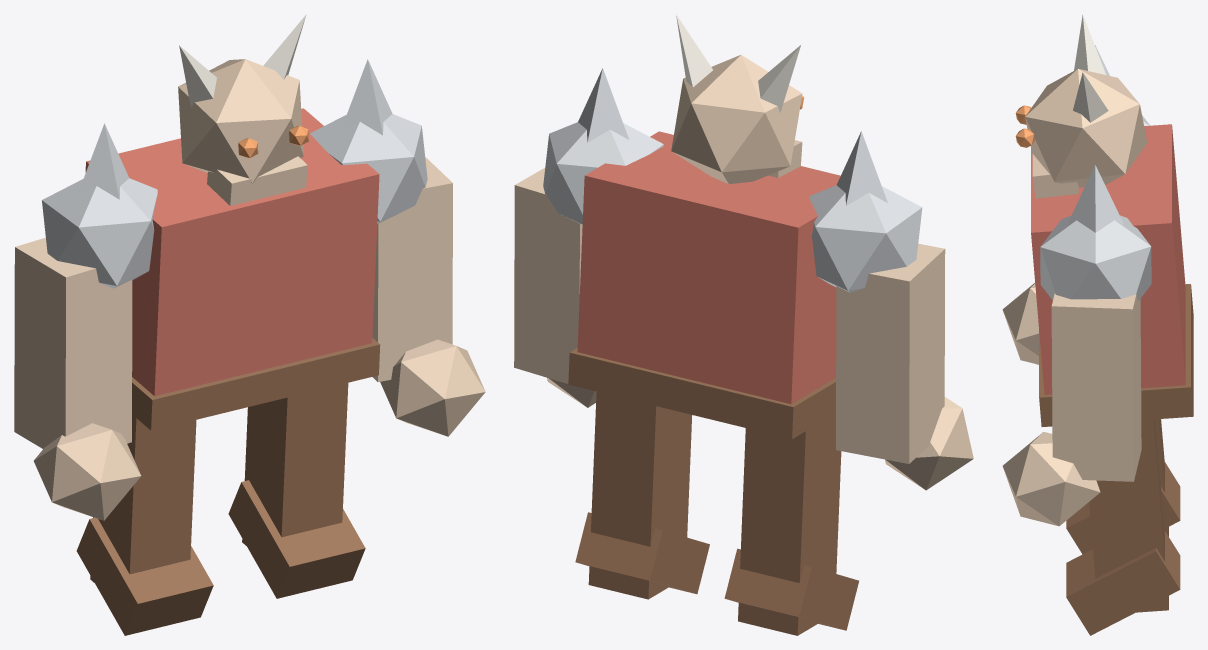
File: npcpose_brute_attack_11.glb
3 renders of one model, left to right at view 1: azimuth 30°, elevation 25°; view 2: azimuth 150°, elevation 25°; view 3: azimuth 270°, elevation 25°, orthographic. The views are drawn at different scales.
Parts seen in each view (by area): view 1: npcpose; view 2: npcpose; view 3: npcpose.
Boxes of the visible parts, <box> form: npcpose: <box>14,14,485,635</box>; npcpose: <box>514,14,973,635</box>; npcpose: <box>1002,14,1193,635</box>.
Size of the model in its own units: 1.43 by 1.84 by 0.5897.
